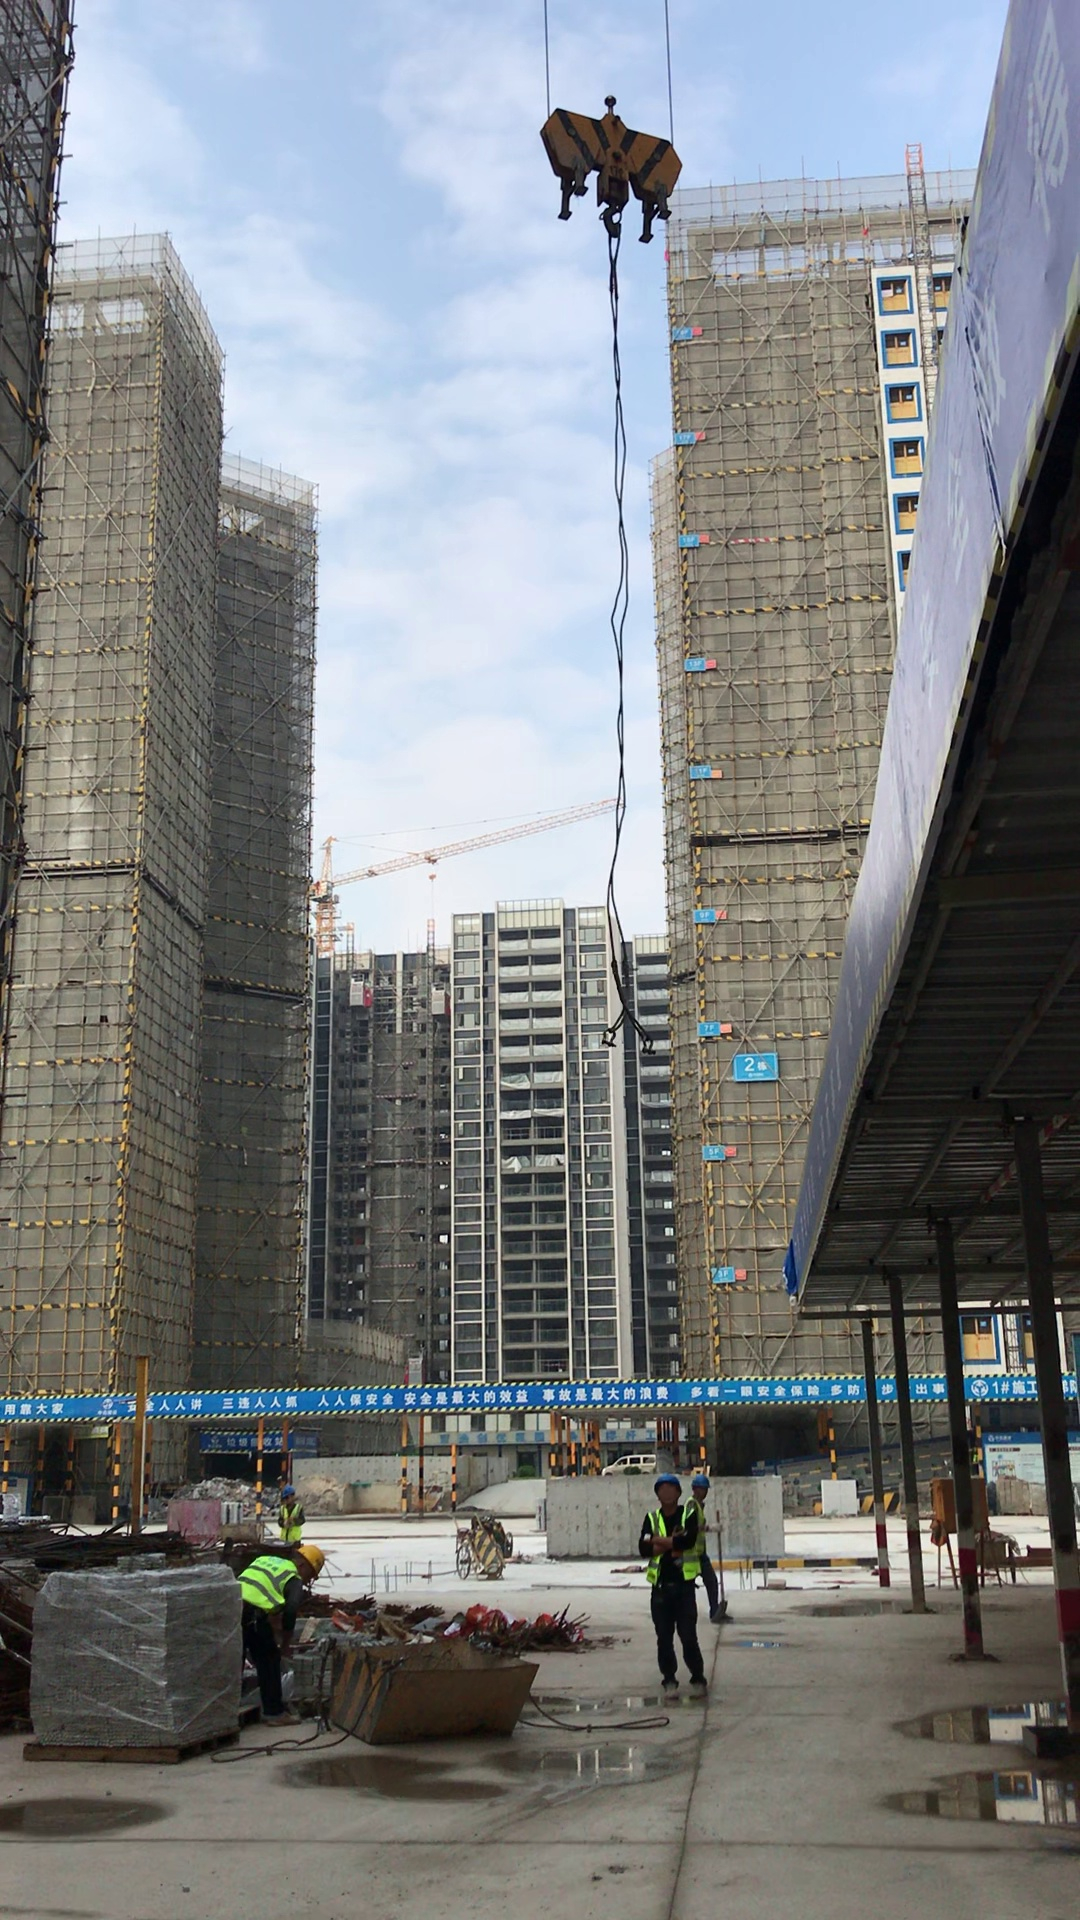helmet: (298, 1541, 326, 1580), (652, 1473, 684, 1494), (688, 1475, 714, 1487), (279, 1484, 296, 1499)
person: (629, 1472, 716, 1696), (240, 1541, 338, 1728), (682, 1474, 732, 1632), (273, 1478, 306, 1545)
vest: (649, 1509, 698, 1584), (242, 1554, 296, 1610), (689, 1500, 712, 1564), (279, 1506, 301, 1538)
